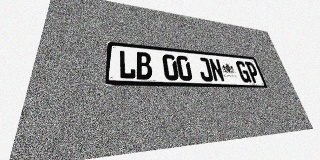0: (162, 54, 179, 81), (176, 55, 193, 81)
B: (135, 51, 153, 80)
G: (235, 61, 252, 83)
J: (197, 57, 214, 82)
L: (119, 50, 136, 79)
N: (208, 58, 225, 82)
P: (244, 61, 261, 83)
